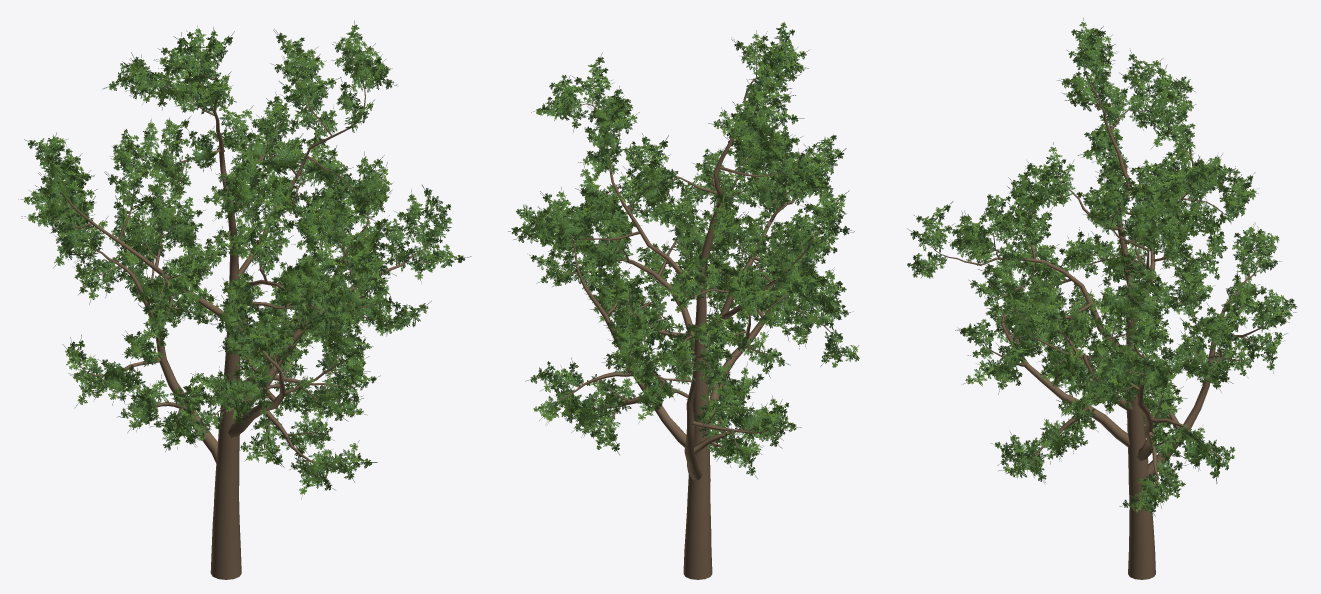
The model's file is shade-tree.glb.
3 views of the same model, side by side, from view 1: azimuth 30°, elevation 25°; view 2: azimuth 150°, elevation 25°; view 3: azimuth 270°, elevation 25° (orthographic). The views are drawn at different scales.
Visible parts, largest first — view 1: leaves, branches; view 2: leaves, branches; view 3: leaves, branches.
Boxes of the visible parts, box(x1,y1,x2,y2) form: leaves: box(18, 20, 471, 499); branches: box(48, 42, 439, 579); leaves: box(508, 22, 859, 478); branches: box(529, 40, 846, 579); leaves: box(907, 18, 1297, 516); branches: box(922, 41, 1273, 579).
Size of the model in its own units: 5.8 by 8 by 5.56.
2 materials, 1 textured.
